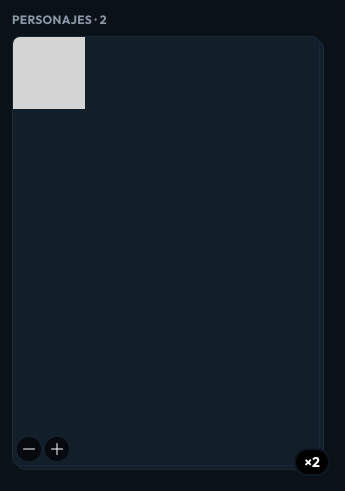
Test: DeckCard › quita una copia al pulsar menos
This screenshot has width=345, height=491.
Click the button named "Quitar una copia de Zoro" at (29, 449), box [17,437,41,461]
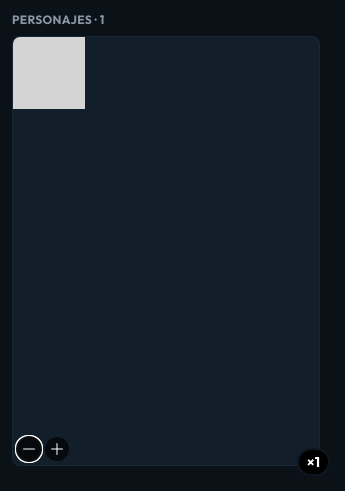
Expected: the text "×1" is shown, [299,450,328,474]
